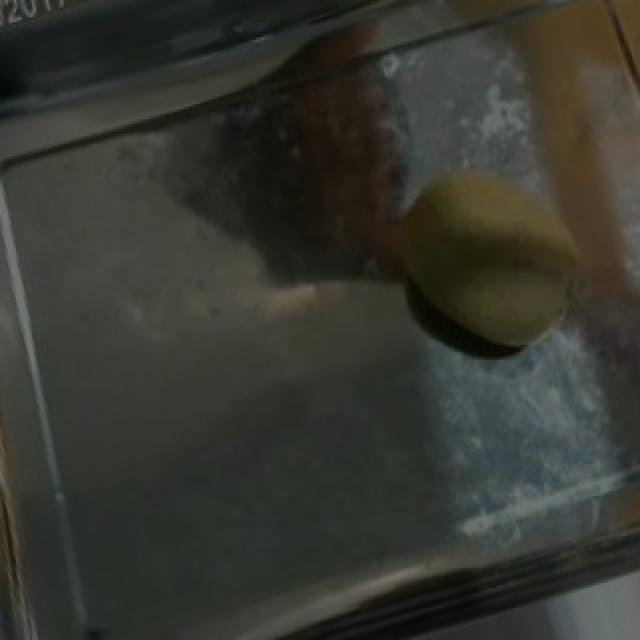Fruit: (356, 131, 636, 382), (488, 0, 640, 248)
